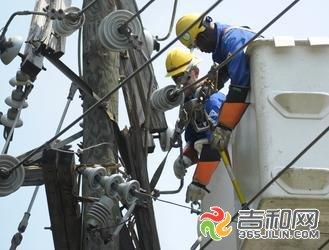boots: (184, 182, 208, 204)
gloves: (213, 90, 244, 148), (184, 157, 220, 204), (170, 153, 189, 177)
hard-hat: (163, 47, 199, 78), (175, 12, 206, 48)
person: (173, 11, 259, 203), (149, 47, 226, 204)
ppe-suit: (173, 11, 260, 203)
